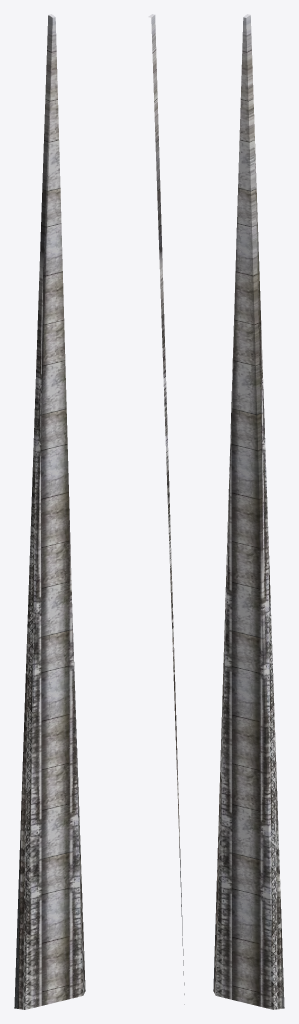
3 views of the same model, side by side, from view 1: azimuth 30°, elevation 25°; view 2: azimuth 150°, elevation 25°; view 3: azimuth 330°, elevation 25° (orthographic).
Parts seen in each view (by area): view 1: model_Object128; view 2: model_Object128; view 3: model_Object128.
Boxes of the visible parts, left/top/right/bottom form: model_Object128: left=14, top=14, right=85, bottom=1009; model_Object128: left=148, top=14, right=184, bottom=1004; model_Object128: left=213, top=14, right=284, bottom=1009.
Bounding box in the file's own units: 0.8851 × 11.72 × 0.0918.
Materials: 1 (1 with a texture image).
